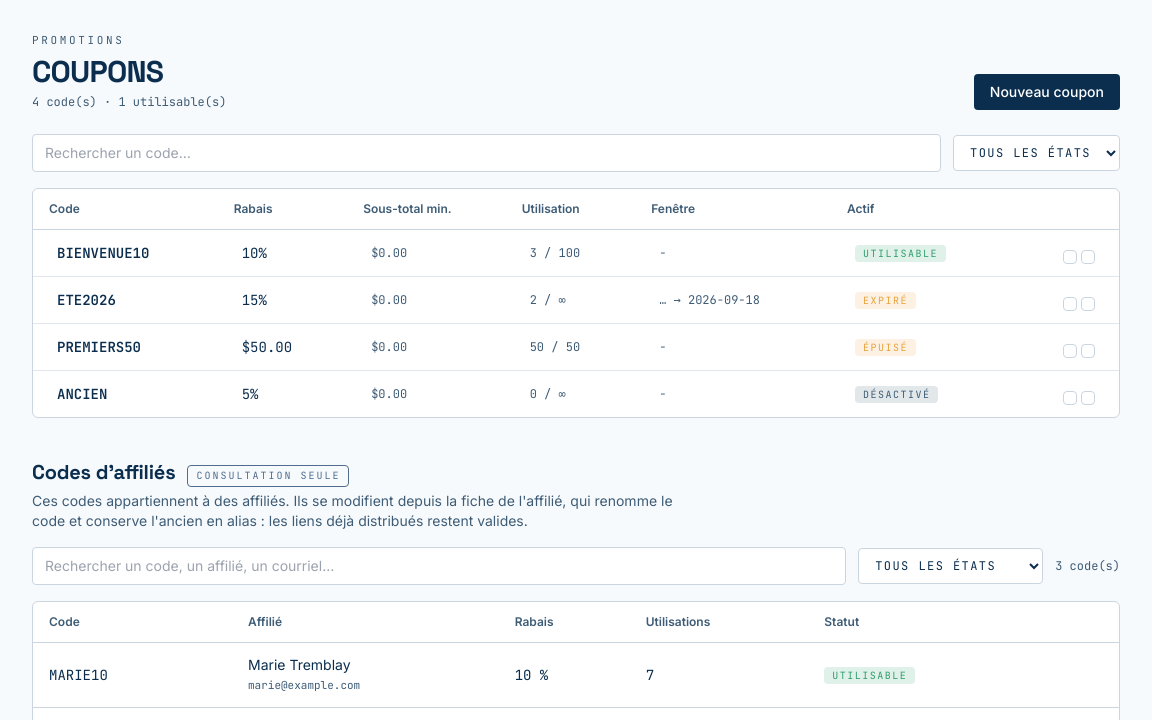
Test case: on retrouve le code d un affilie par son nom ou son courriel
This screenshot has width=1152, height=720.
Type "tremblay" into the field with test id "affiliate-codes-search". click: (439, 566)
box: [32,547,846,585]
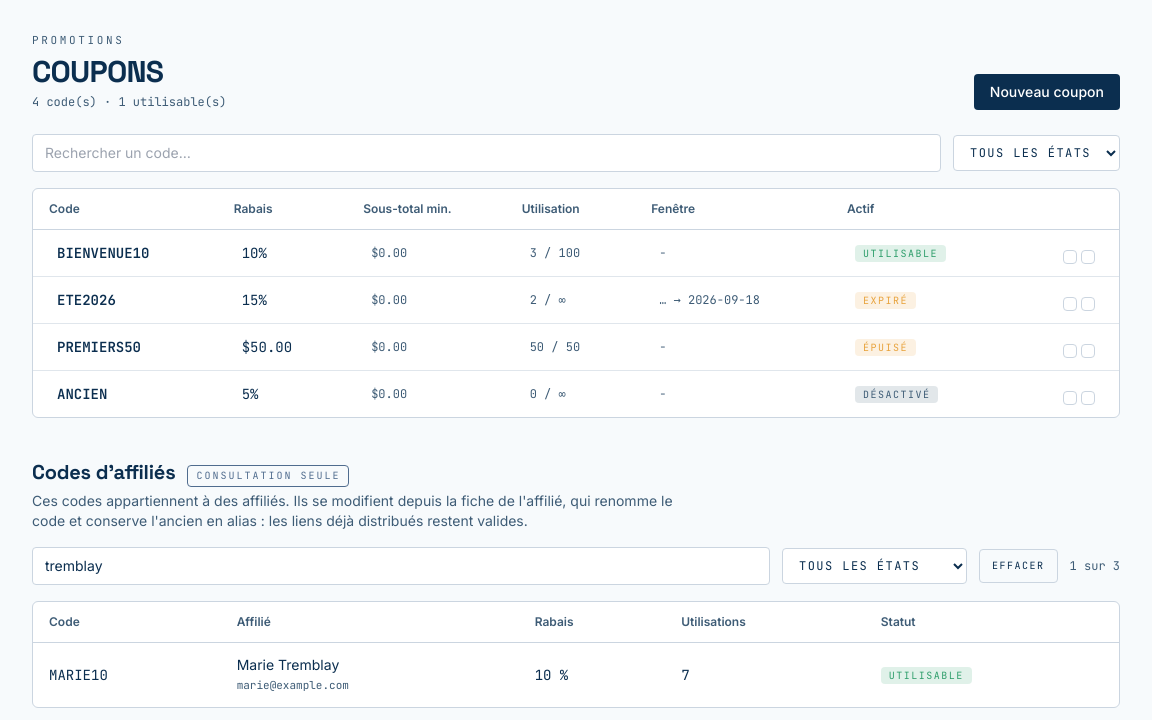
Expected: the row with test id "affiliate-code-row-MARIE10" is shown, [33,642,1119,707]
Replace the text in the field with test id "affiliate-codes-search" with "luc@example.com". click: (401, 566)
box: [32,547,770,585]
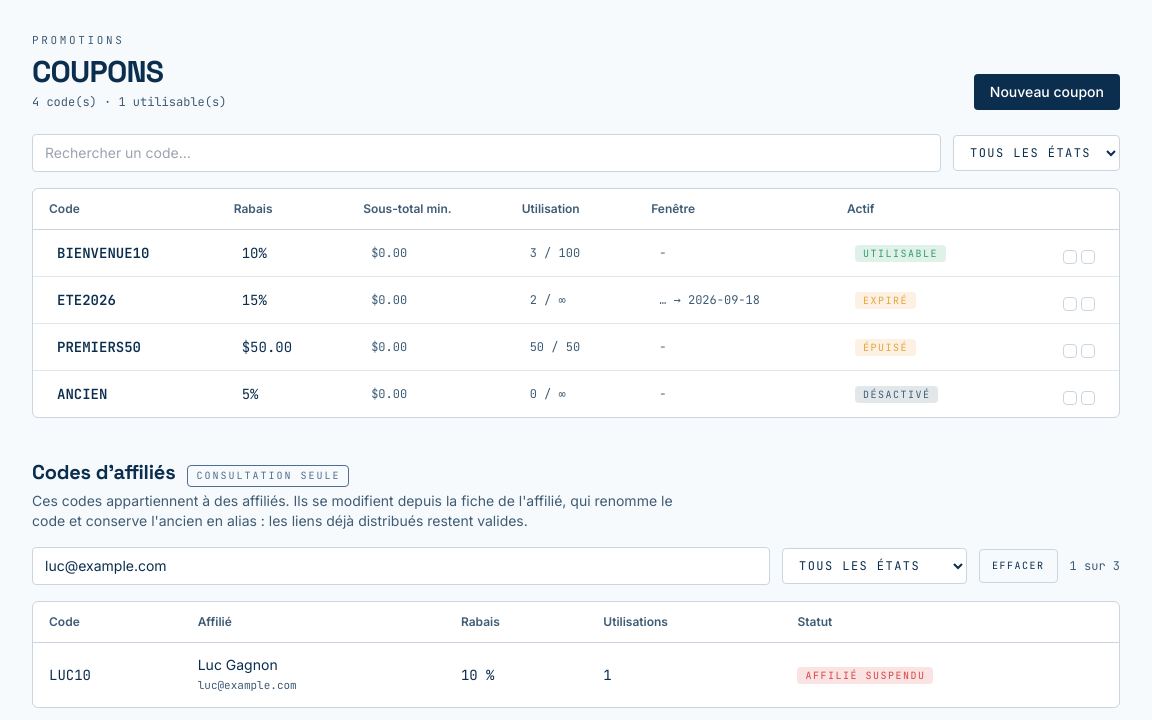
Now the text with test id "affiliate-codes-count" reads "1 sur 3", box [1070,558,1120,574]
Now the row with test id "affiliate-code-row-LUC10" is shown, box [33,642,1119,707]
